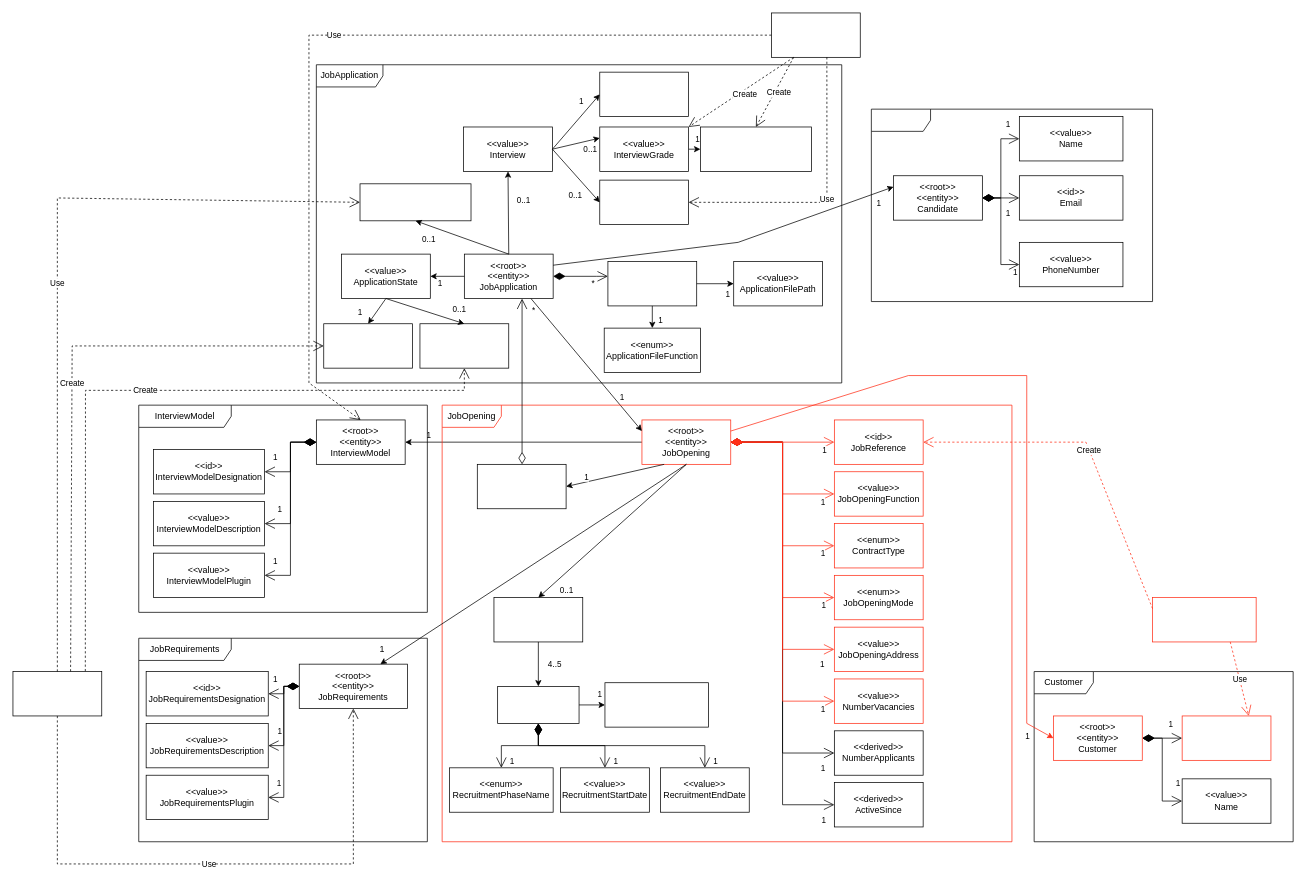
Image size: 1306x887. Some labels were removed from this diagram. Here are the shapes that lost their labels. From the top down, the centre of each, then its label:
At point (815, 34): "<<service>> InterviewEvaluator".
At point (644, 94): "<<value>> InterviewTimeDate".
At point (755, 148): "<<value>> InterviewGradeJustification".
At point (415, 202): "<<value>> JobRequirements Answers".
At point (644, 202): "<<value>> InterviewAnswers".
At point (1012, 205): "Candidate".
At point (652, 283): "<<value>> ApplicationFile".
At point (368, 345): "<<enum>> ApplicationStateName".
At point (464, 345): "<<value>> RejectionJustification".
At point (521, 486): "<<entity>> Rank".
At point (538, 619): "<<entity>> RecruitmentProcess".
At point (1204, 619): "<<service>> JobReferenceGenerator".
At point (57, 693): "<<service>> ReqEvaluation".
At point (538, 704): "<<entity>> RecruitmentPhase".
At point (656, 704): "<<enum>> Recruitment PhaseState".
At point (1226, 737): "<<id>> CustomerCode".
